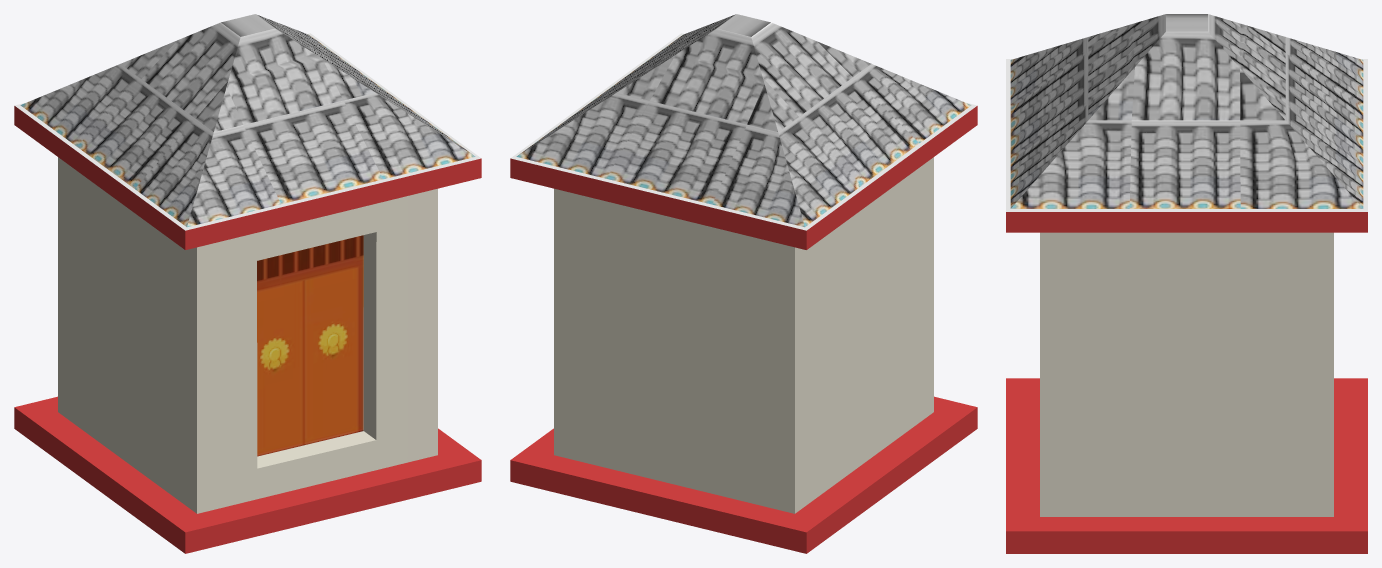
Rendered from TextureAndAO.fbx.
3 views of the same model, side by side, from view 1: azimuth 30°, elevation 25°; view 2: azimuth 150°, elevation 25°; view 3: azimuth 270°, elevation 25° (orthographic). The views are drawn at different scales.
Parts seen in each view (by area): view 1: Cube; view 2: Cube; view 3: Cube.
Part boxes in pixels (x1=…): Cube: x1=14, y1=14, x2=481, y2=553; Cube: x1=510, y1=14, x2=977, y2=553; Cube: x1=1006, y1=14, x2=1367, y2=553.
Bounding box in the file's own units: 220 × 305 × 220.
